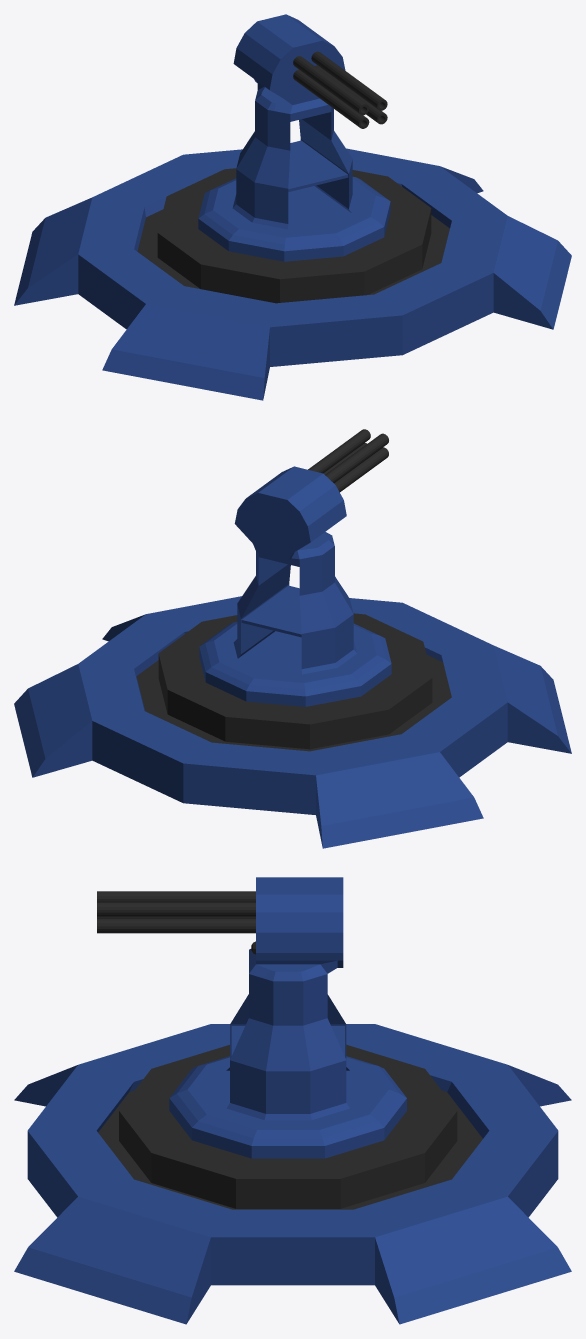
The model's file is FlakTurretFinalUpgrade.fbx.
The picture shows the model from 3 angles, top to bottom: view 1: azimuth 30°, elevation 25°; view 2: azimuth 150°, elevation 25°; view 3: azimuth 270°, elevation 25°; orthographic projection. The views are drawn at different scales.
Visible parts, largest first — view 1: FinalUpgrade; view 2: FinalUpgrade; view 3: FinalUpgrade.
Part boxes in pixels (<box>): FinalUpgrade: <box>14,14,571,400</box>; FinalUpgrade: <box>14,429,571,848</box>; FinalUpgrade: <box>14,877,571,1324</box>.
Size of the model in its own units: 61.77 by 31.14 by 52.55.
